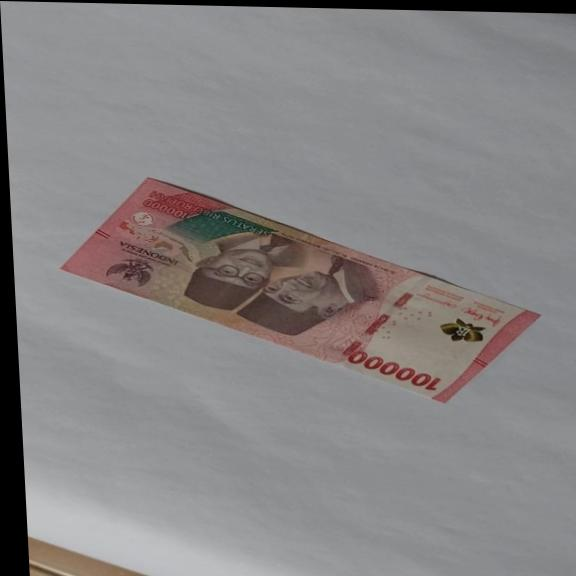Kertas: (53, 174, 545, 406), (345, 349, 443, 391)
